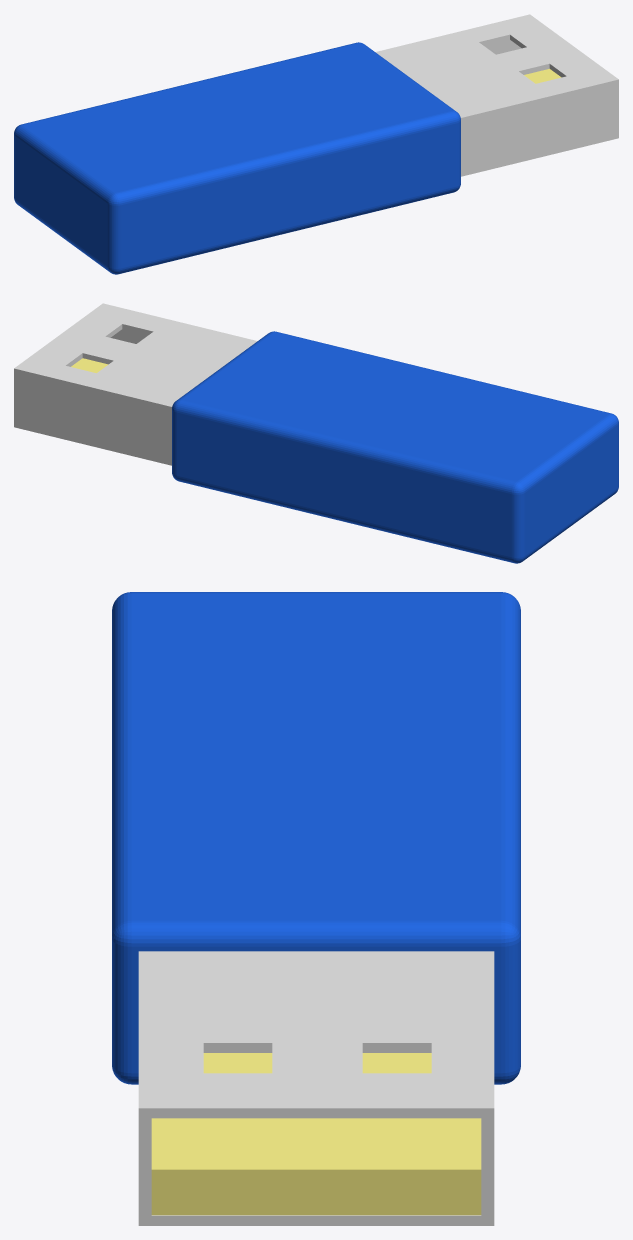
Rendered from Usb1.fbx.
3 views of the same model, one above another, from view 1: azimuth 30°, elevation 25°; view 2: azimuth 150°, elevation 25°; view 3: azimuth 270°, elevation 25° (orthographic). The views are drawn at different scales.
Parts seen in each view (by area): view 1: Cube, Cube.001; view 2: Cube, Cube.001; view 3: Cube, Cube.001, Cube.002.
Boxes of the visible parts, x1,y1,x2,y2 form: Cube: (14,42,460,274); Cube.001: (375,14,618,176); Cube: (172,331,618,563); Cube.001: (14,303,257,465); Cube: (112,592,520,1084); Cube.001: (138,951,494,1225); Cube.002: (151,1053,481,1215).
Bounding box in the file's own units: 5.79 × 0.8735 × 2.
